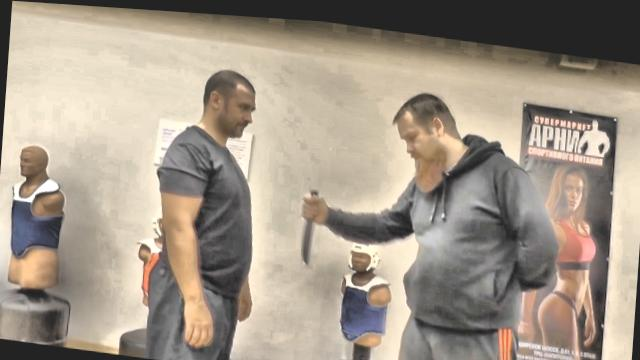knife: (292, 179, 322, 263)
